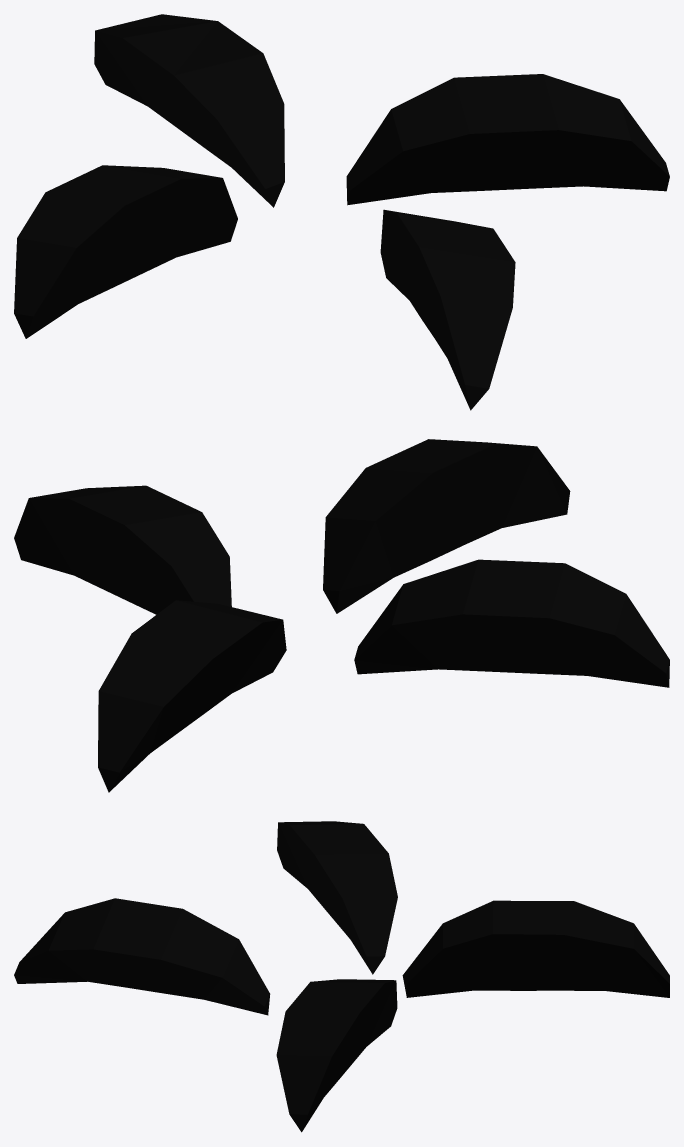
The model's file is impact_12.glb.
The picture shows the model from 3 angles, top to bottom: view 1: azimuth 30°, elevation 25°; view 2: azimuth 150°, elevation 25°; view 3: azimuth 270°, elevation 25°; orthographic projection. The views are drawn at different scales.
Size of the model in its own units: 3.58 by 0.649 by 3.94.
Materials: 1 (1 with a texture image).
